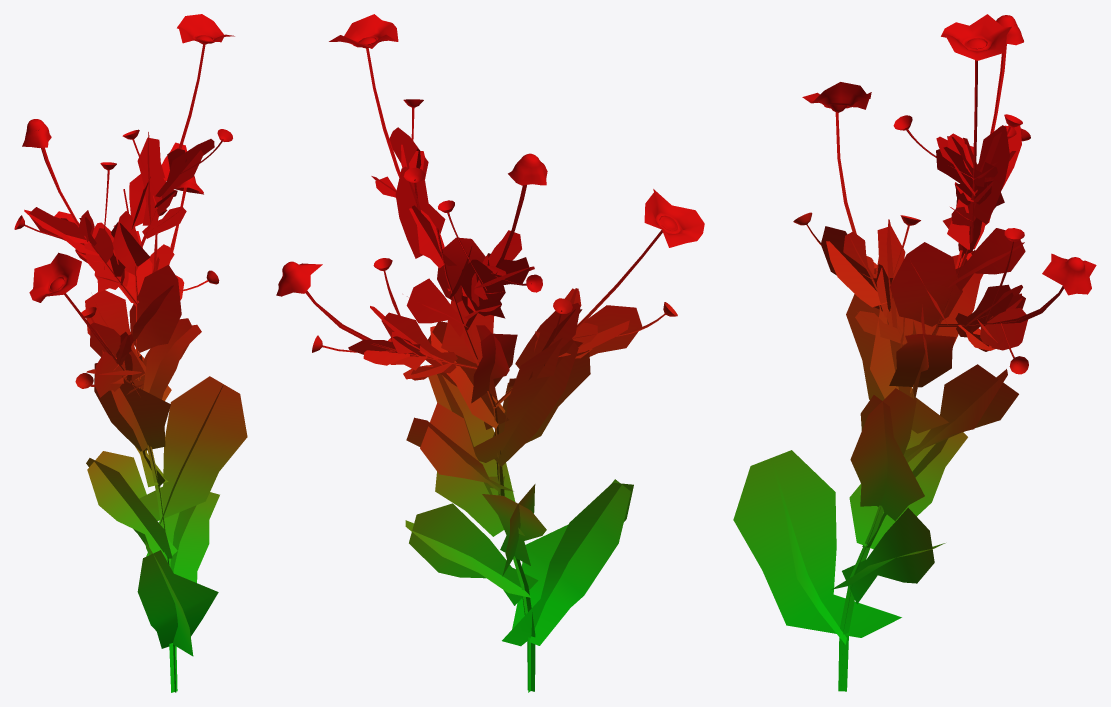
Rendered from Chamomile_LOD0_Var5_ujcnejvja.fbx.
The picture shows the model from 3 angles, left to right: view 1: azimuth 30°, elevation 25°; view 2: azimuth 150°, elevation 25°; view 3: azimuth 270°, elevation 25°; orthographic projection. The views are drawn at different scales.
Visible parts, largest first — view 1: _8ja3_Var5_LOD0; view 2: _8ja3_Var5_LOD0; view 3: _8ja3_Var5_LOD0.
Part boxes in pixels (<box>): _8ja3_Var5_LOD0: <box>14,14,247,692</box>; _8ja3_Var5_LOD0: <box>276,14,704,692</box>; _8ja3_Var5_LOD0: <box>733,14,1096,691</box>.
Size of the model in its own units: 23.02 by 49.35 by 22.73.
